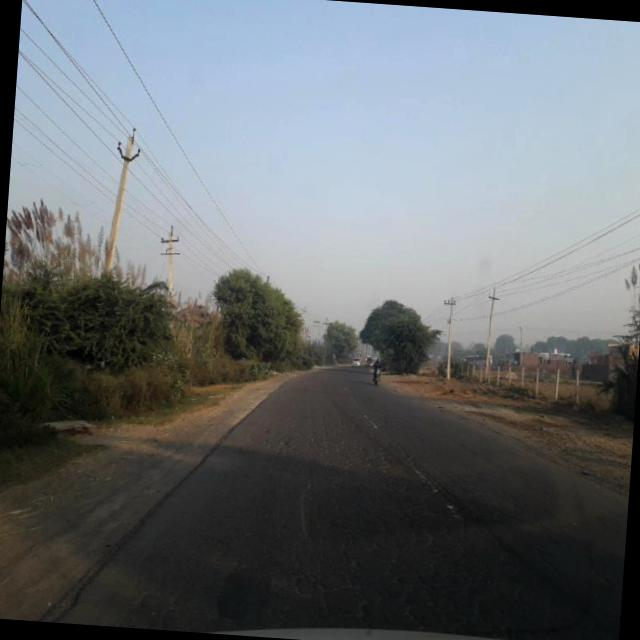crack: (169, 461, 617, 640)
